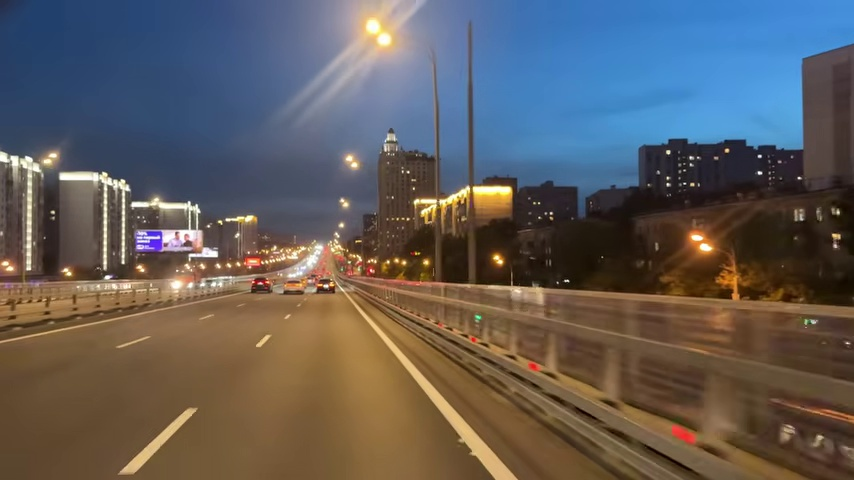acesa: (361, 16, 395, 49), (688, 232, 715, 257), (40, 150, 59, 169), (343, 152, 361, 171), (338, 198, 352, 211)
